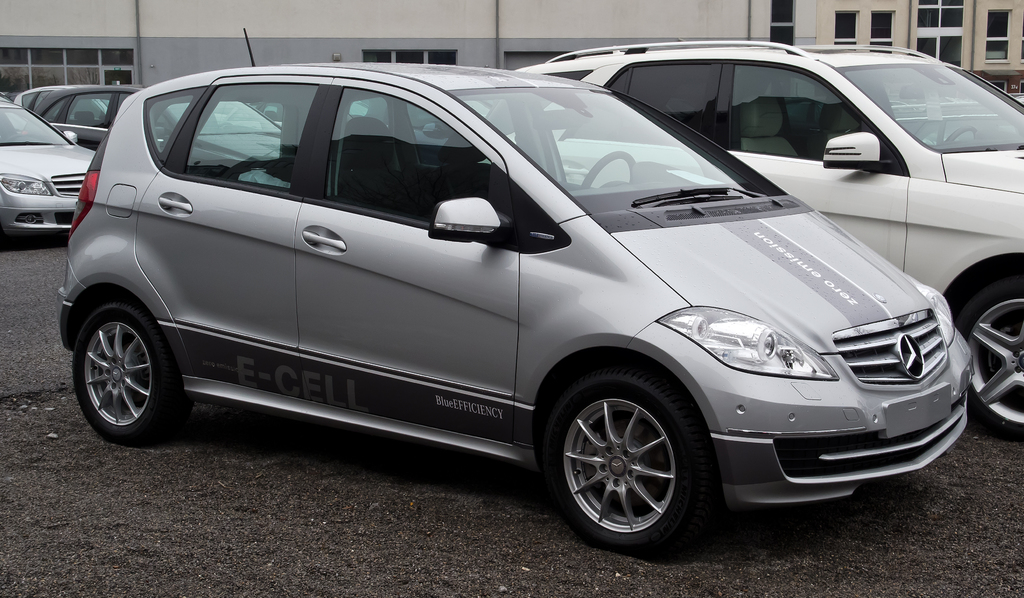Car: (0, 26, 1023, 553)
